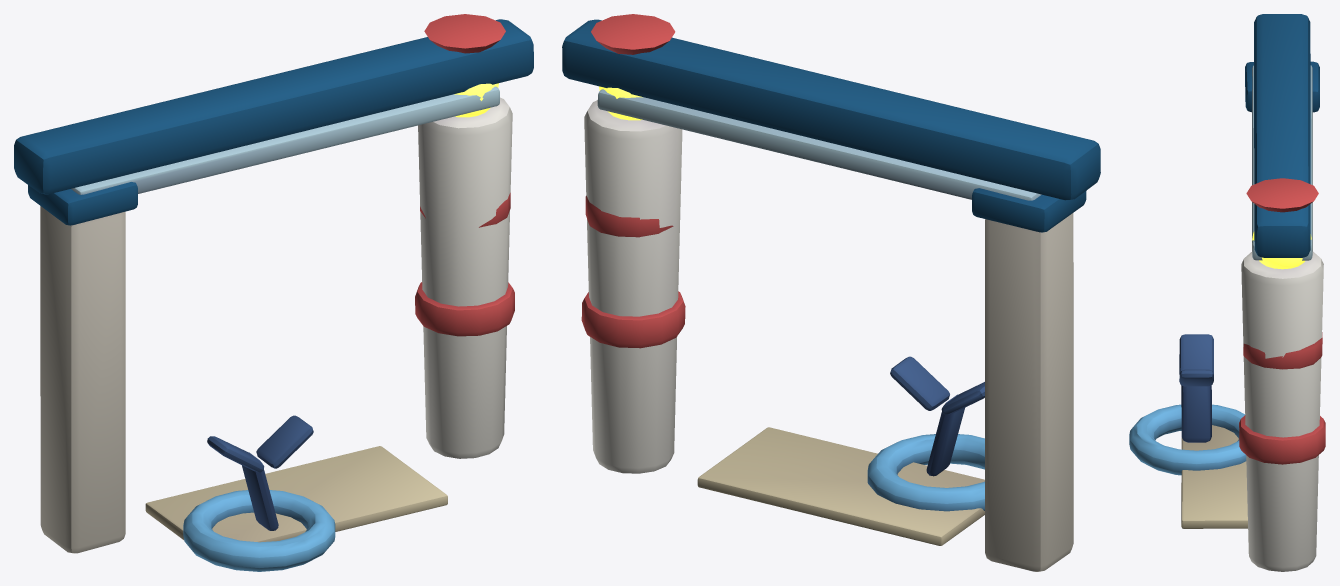
3 renders of one model, left to right at view 1: azimuth 30°, elevation 25°; view 2: azimuth 150°, elevation 25°; view 3: azimuth 270°, elevation 25°, orthographic. The views are drawn at different scales.
Parts seen in each view (by area): view 1: gate_1dd2908a; view 2: gate_1dd2908a; view 3: gate_1dd2908a.
Boxes of the visible parts, x1,y1,x2,y2 form: gate_1dd2908a: (14, 14, 533, 571); gate_1dd2908a: (562, 14, 1100, 571); gate_1dd2908a: (1129, 14, 1325, 571).
Size of the model in its own units: 5.04 by 4.03 by 1.95.
